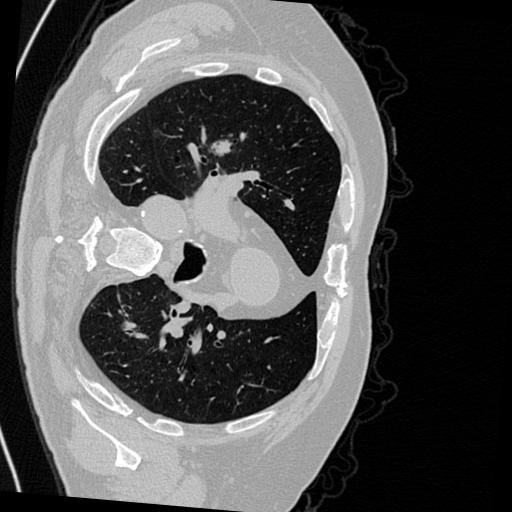nodule: (210, 138, 235, 163)
